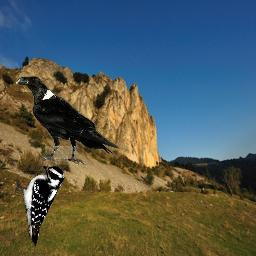Crow: (15, 76, 120, 165)
Woodpecker: (15, 166, 65, 249)
